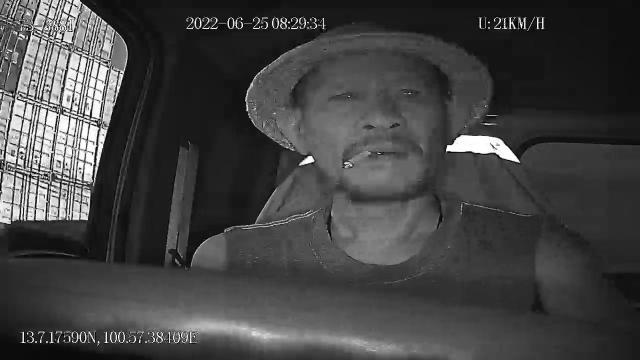SafeDriving: (326, 86, 364, 109), (392, 80, 428, 104)
Smoking: (343, 148, 371, 170)
